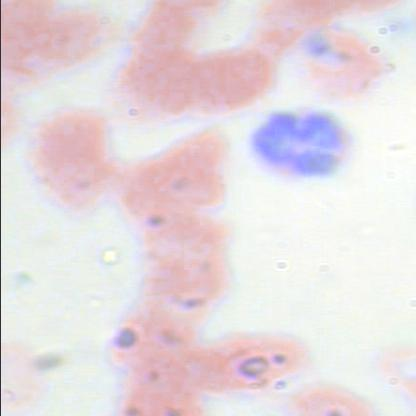RBC: (25, 109, 118, 215), (198, 330, 316, 396), (183, 48, 271, 116)
WBC: (244, 99, 356, 187)
